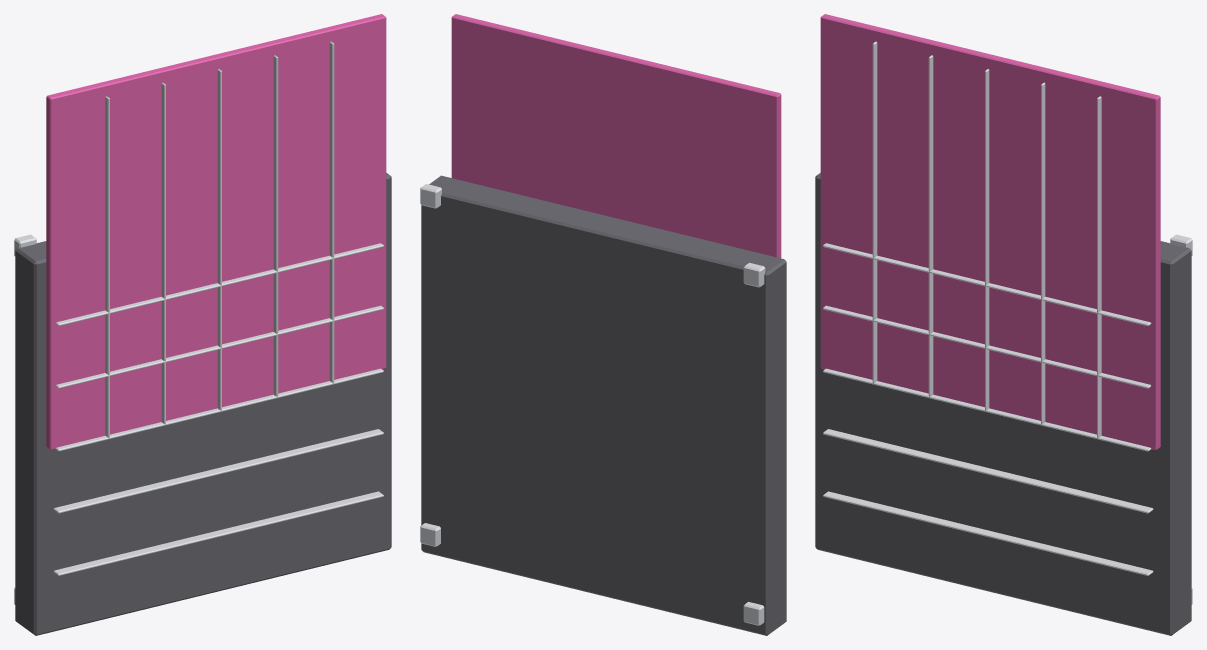
File: nightclub-and-dj-booth-backdrop-led-panel-module-831305f2.glb
3 renders of one model, left to right at view 1: azimuth 30°, elevation 25°; view 2: azimuth 150°, elevation 25°; view 3: azimuth 330°, elevation 25°, orthographic. The views are drawn at different scales.
Visible parts, largest first — view 1: backdrop-led-panel-module; view 2: backdrop-led-panel-module; view 3: backdrop-led-panel-module.
Part boxes in pixels (left/top/right/bottom): backdrop-led-panel-module: left=14, top=14, right=391, bottom=635; backdrop-led-panel-module: left=420, top=14, right=786, bottom=635; backdrop-led-panel-module: left=815, top=14, right=1192, bottom=635.
Bounding box in the file's own units: 1 × 1.44 × 0.1574.
